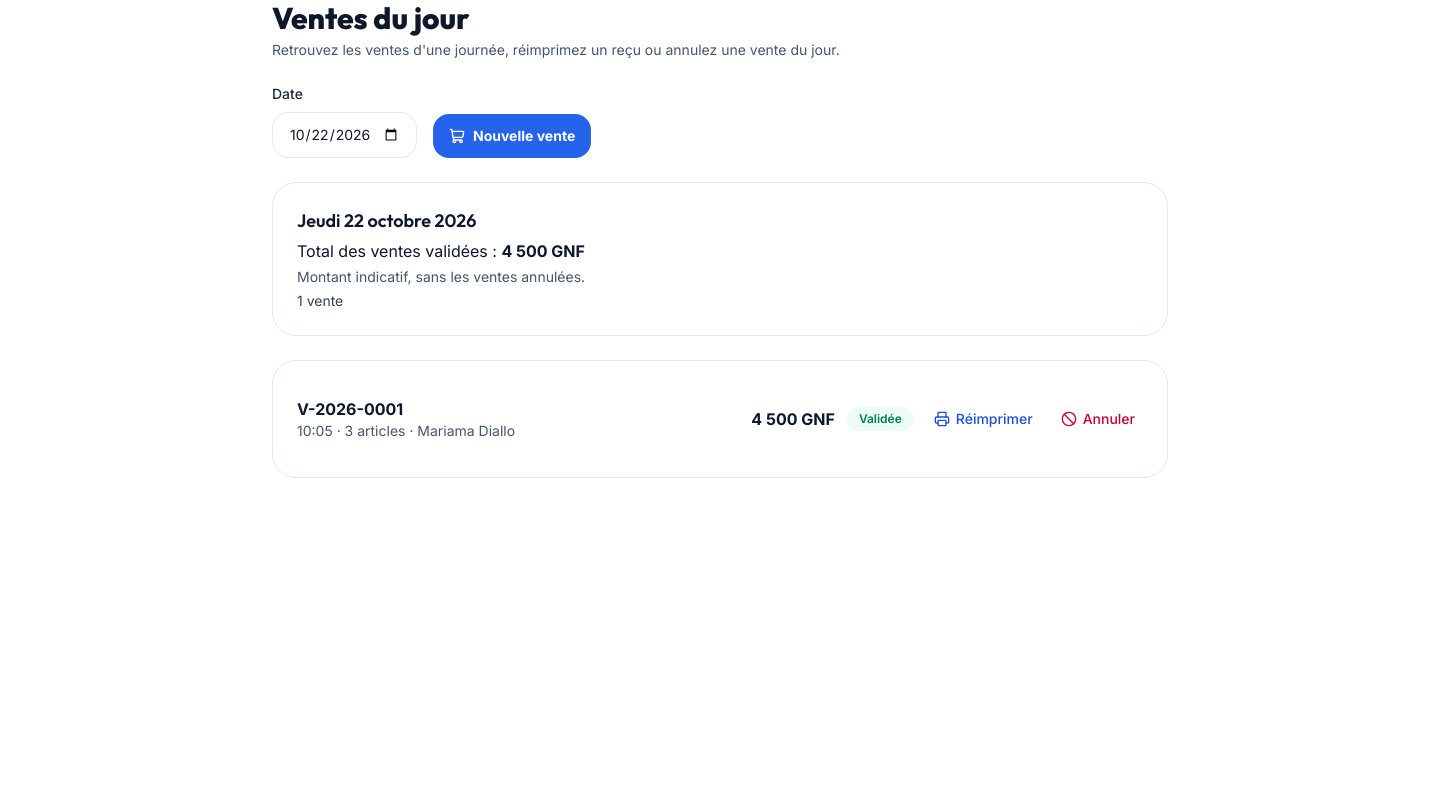
Scenario: Ventes du jour › annule la vente avec le motif, prévient et recharge la liste
Step 1. Click the button with aria-label "Annuler la vente V-2026-0001" → (1098, 419), box [1053, 401, 1143, 437]
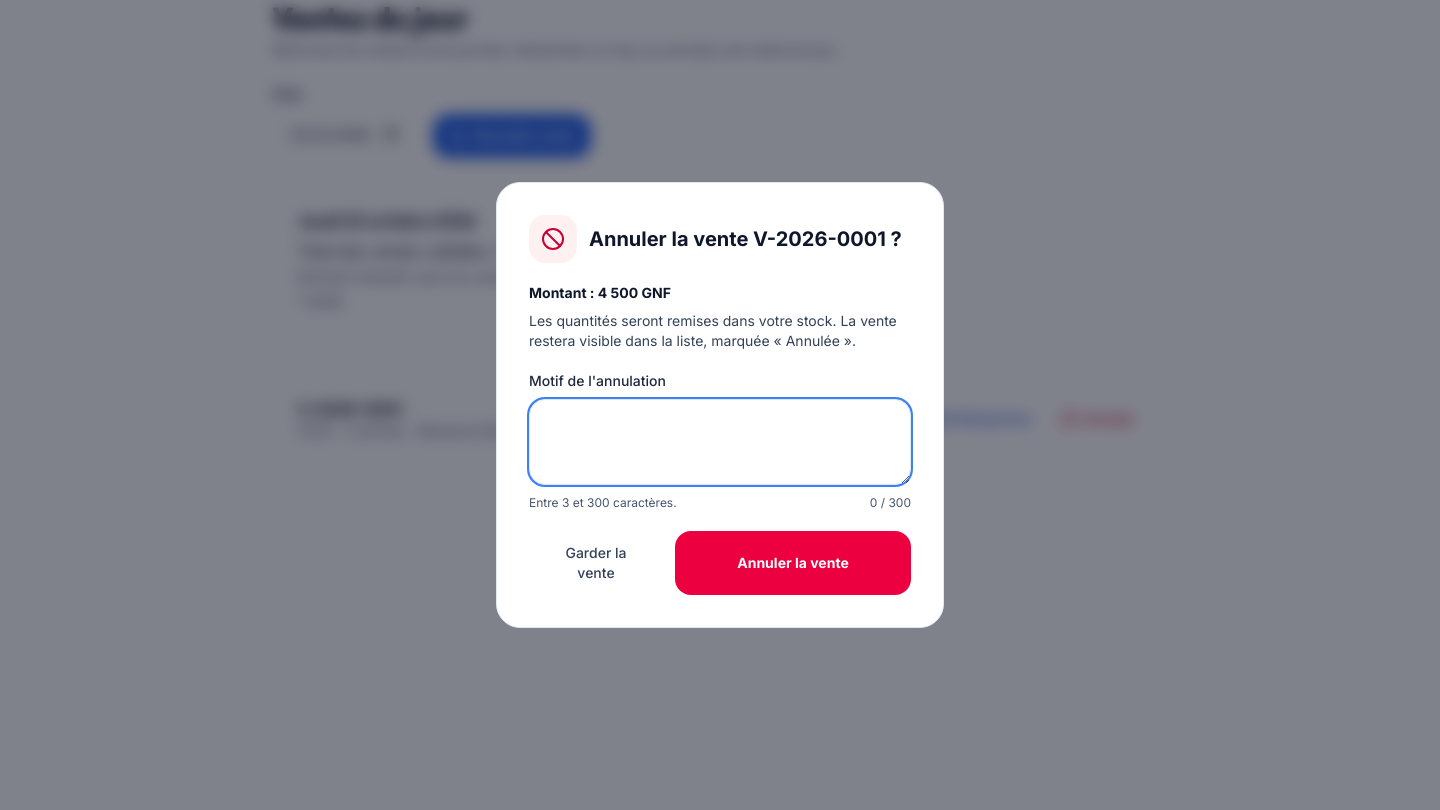
Step 2. Type "  Erreur de quantité " into the text box labelled "Motif de l'annulation" → (720, 442), box [529, 399, 911, 485]
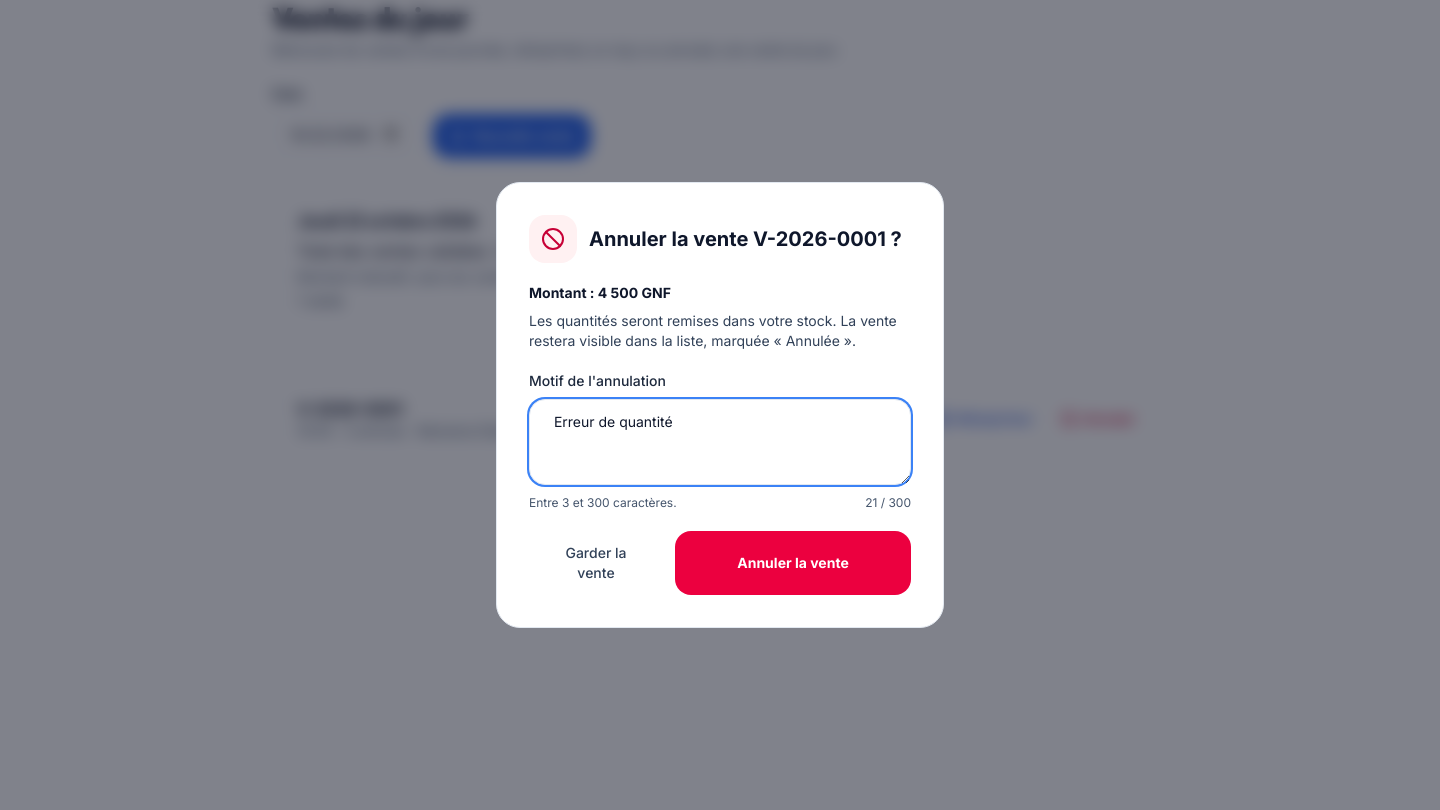
Step 3. Click the button "Annuler la vente" → (793, 563), box [675, 531, 911, 595]
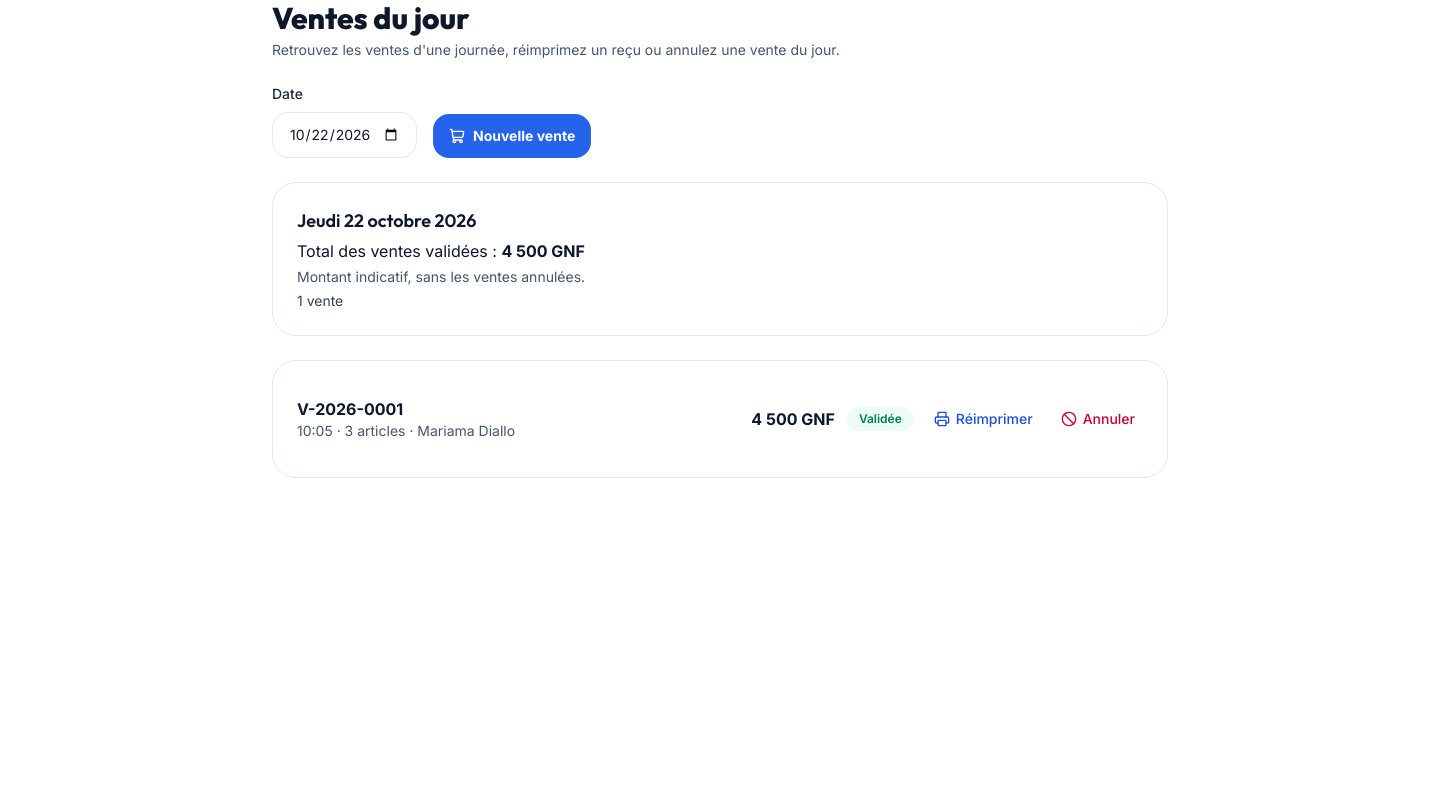
Expected: the dialog is gone
